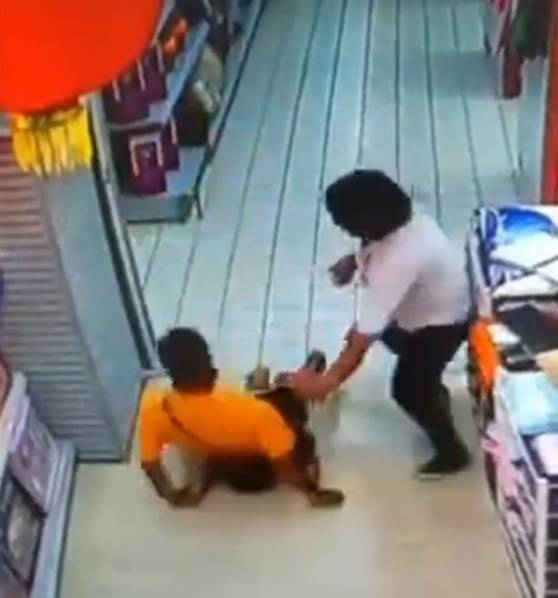falling: (130, 320, 351, 513)
